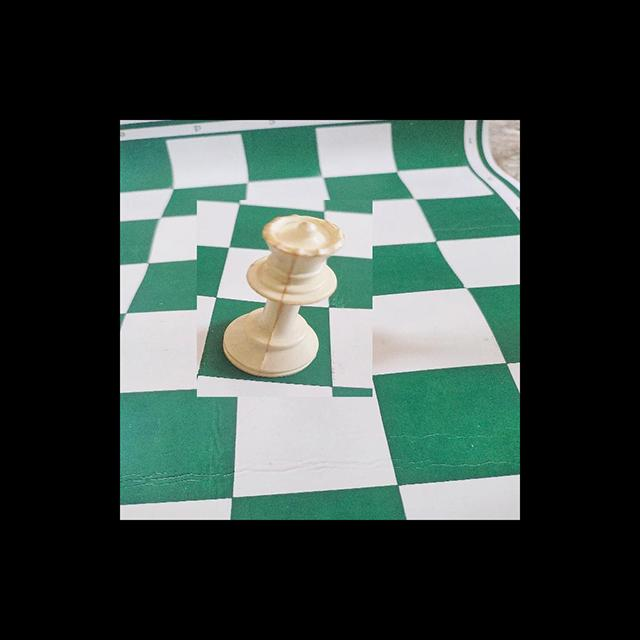white-queen: (221, 214, 346, 378)
